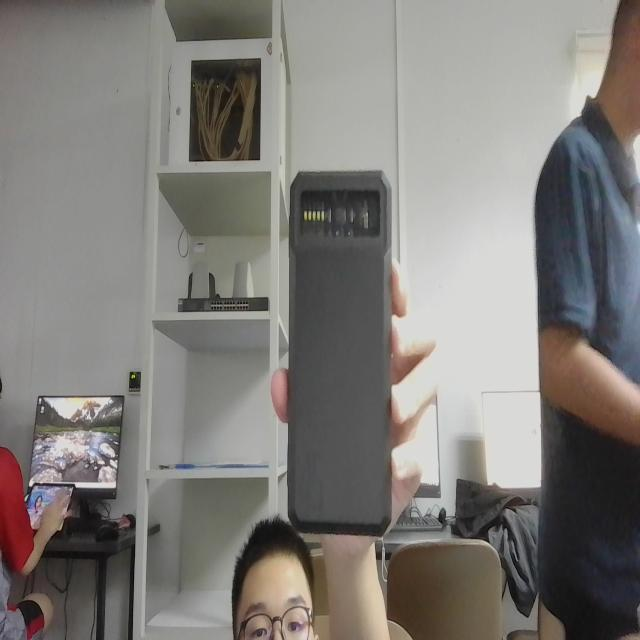power bank: (280, 161, 403, 546)
